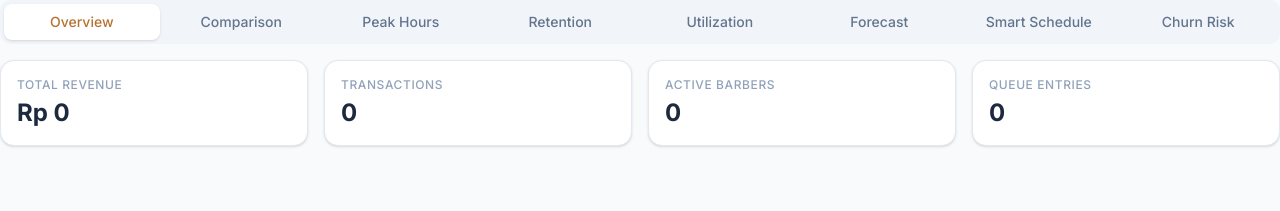
Test: analytics feature › Comparison tab loads branch comparison data
Click the button "Comparison": (241, 22) [164, 4, 319, 40]
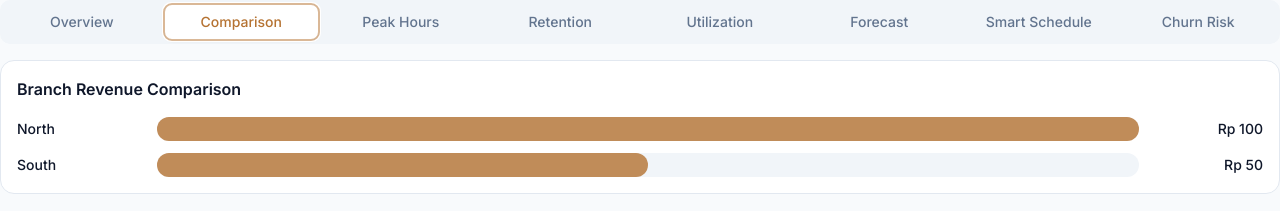
expect the text "North" is shown: met, box [17, 120, 55, 137]
expect the text "South" is shown: met, box [17, 156, 56, 173]
